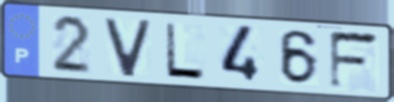2: (50, 14, 94, 77)
4: (216, 22, 268, 87)
6: (277, 28, 321, 87)
F: (327, 29, 383, 92)
L: (163, 21, 208, 82)
V: (102, 16, 155, 79)
